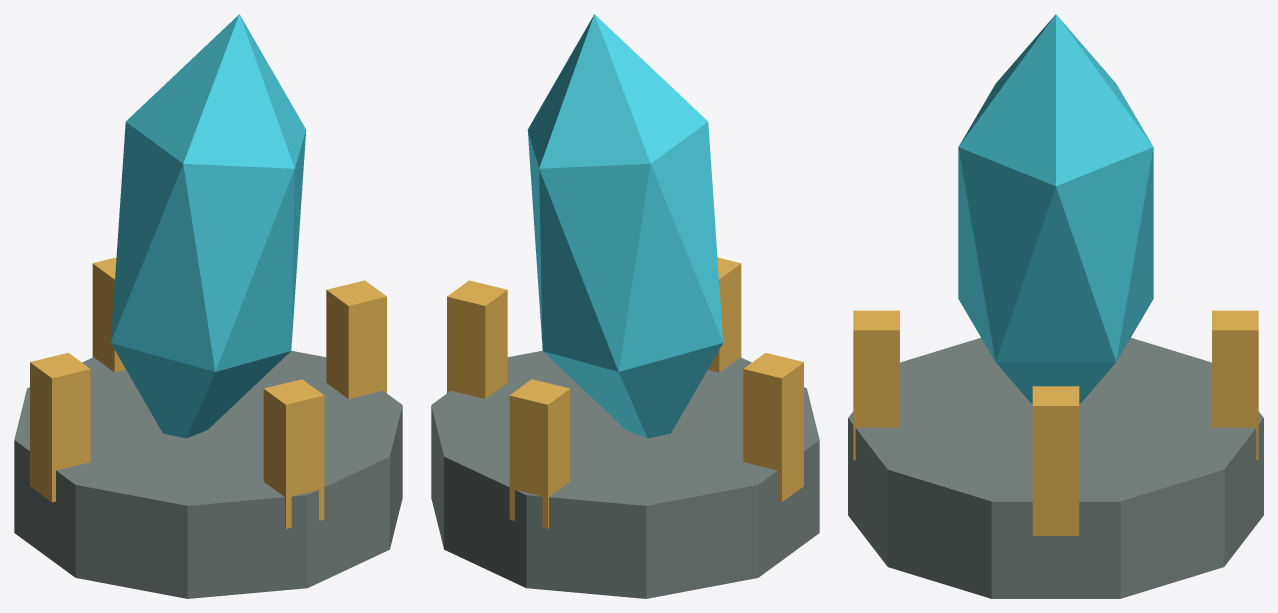
File: seal.fbx
3 views of the same model, side by side, from view 1: azimuth 30°, elevation 25°; view 2: azimuth 150°, elevation 25°; view 3: azimuth 270°, elevation 25° (orthographic). The views are drawn at different scales.
Parts seen in each view (by area): view 1: Plinth, SealCrystal, Rune.002, Rune.003, Rune, Rune.001; view 2: Plinth, SealCrystal, Rune.002, Rune.001, Rune, Rune.003; view 3: Plinth, SealCrystal, Rune, Rune.001, Rune.003.
Part boxes in pixels (x1=…): Plinth: x1=14, y1=350, x2=402, y2=598; SealCrystal: x1=110, y1=14, x2=306, y2=438; Rune.002: x1=30, y1=352, x2=90, y2=502; Rune.003: x1=263, y1=379, x2=324, y2=528; Rune: x1=326, y1=280, x2=386, y2=398; Rune.001: x1=92, y1=257, x2=125, y2=372; Plinth: x1=431, y1=350, x2=819, y2=598; SealCrystal: x1=527, y1=14, x2=723, y2=438; Rune.002: x1=743, y1=352, x2=803, y2=502; Rune.001: x1=509, y1=379, x2=570, y2=528; Rune: x1=447, y1=280, x2=507, y2=398; Rune.003: x1=708, y1=257, x2=741, y2=372; Plinth: x1=848, y1=338, x2=1263, y2=598; SealCrystal: x1=958, y1=14, x2=1153, y2=404; Rune: x1=1032, y1=386, x2=1079, y2=535; Rune.001: x1=1212, y1=310, x2=1258, y2=460; Rune.003: x1=853, y1=310, x2=899, y2=460.
Size of the model in its own units: 113 by 159 by 116.
